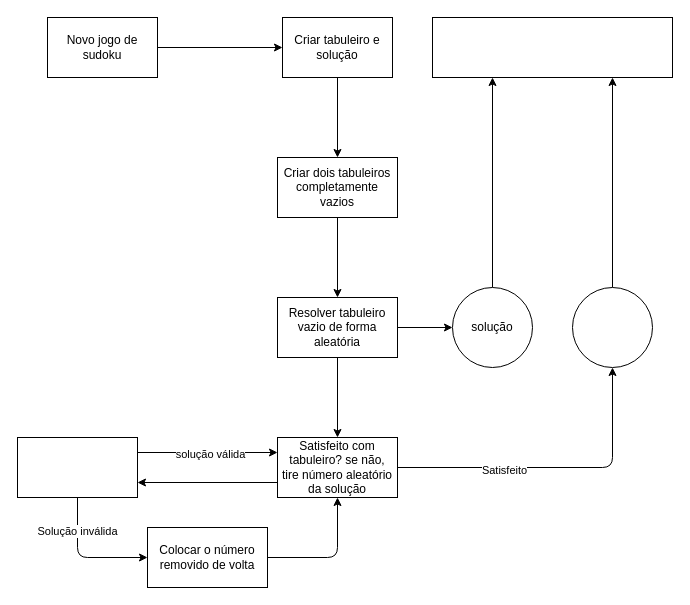
The diagram is 690 pixels wide and 605 high, and some of its shapes have lost their labels. Here are the shapes that lost their labels. From the top down, the centre of each, then its label:
the point at 552,47: Tabuleiro vazio e sua solução prontos
the point at 612,327: tabuleiro incompleto
the point at 77,467: Resolver tabuleiro
